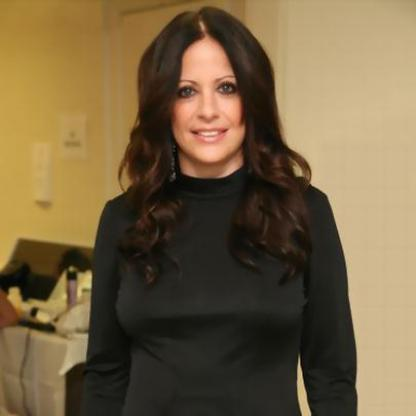long-hair: (118, 161, 295, 181)
